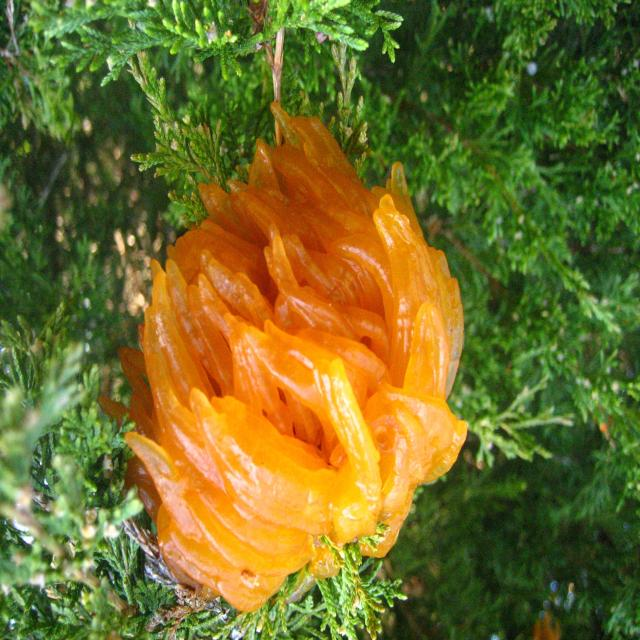Chlorosis: (103, 101, 470, 614)
